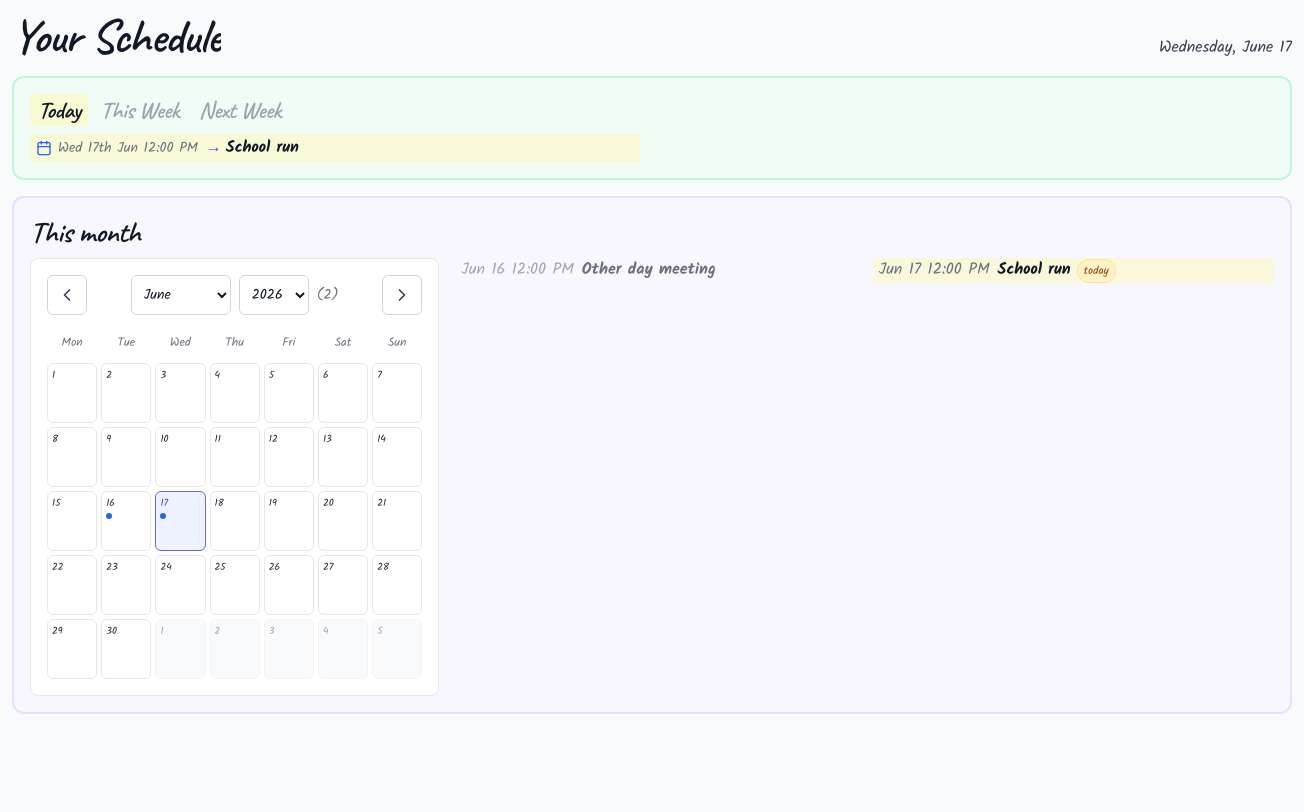
Test: ScheduleOverview › tapping "This Week" reveals other in-week days
Click the tab "This Week" at (140, 110), box [92, 94, 187, 126]
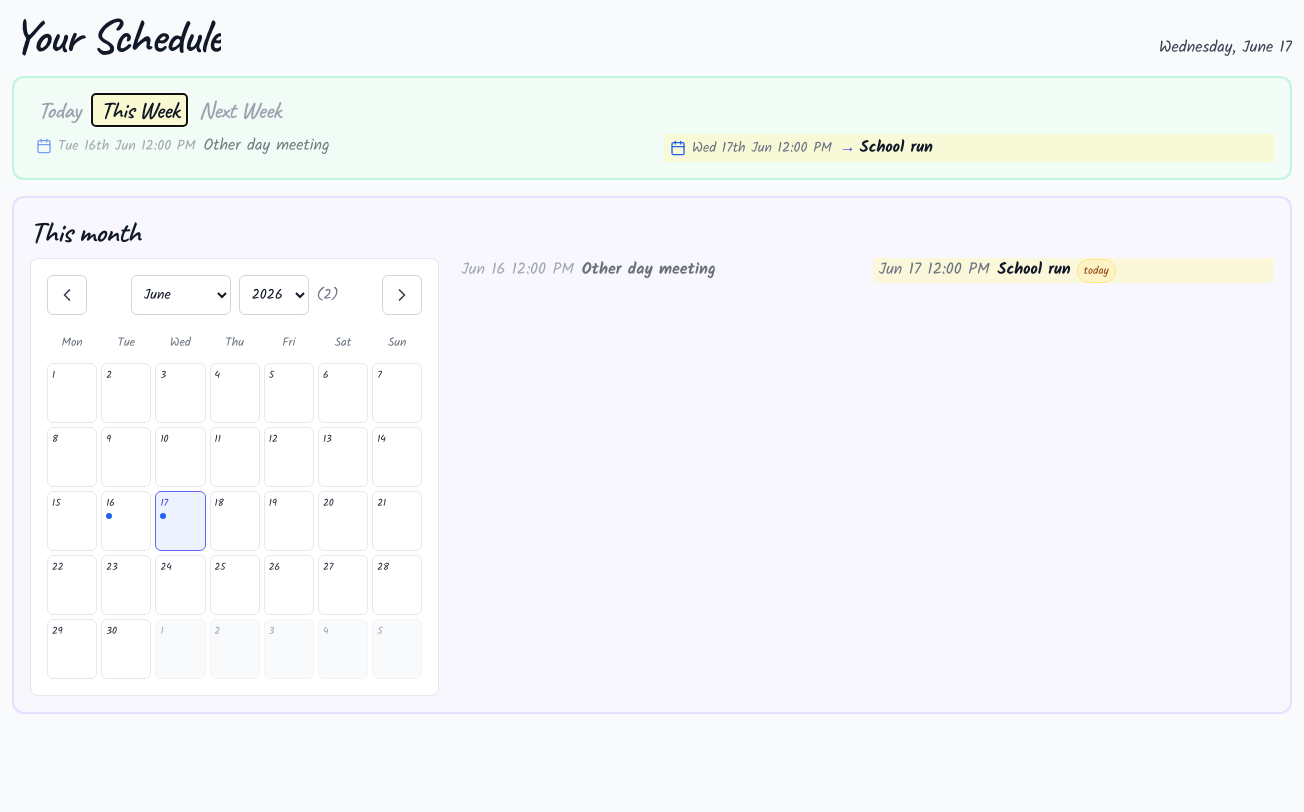
Check: the text "School run" is shown, box [860, 135, 933, 160]
Check: the text "Other day meeting" is shown, box [204, 133, 330, 158]
